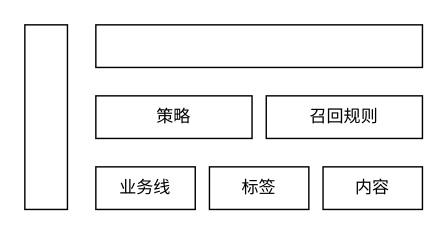
The diagram is 447 pixels wide and 234 high, and some of its shapes have lost their labels. Here are the shapes that lost their labels. From the top down, the centre of each, then its label:
At [258,45]: "任务".
At [45,116]: "限频".
